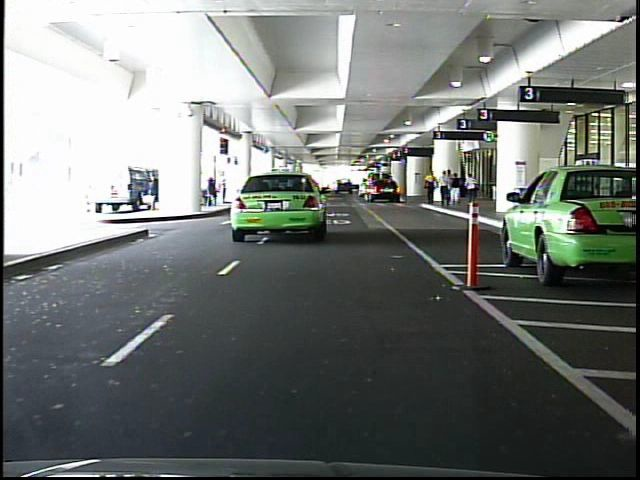person: (464, 169, 482, 210), (439, 165, 454, 210), (423, 167, 439, 209), (450, 172, 463, 212)
